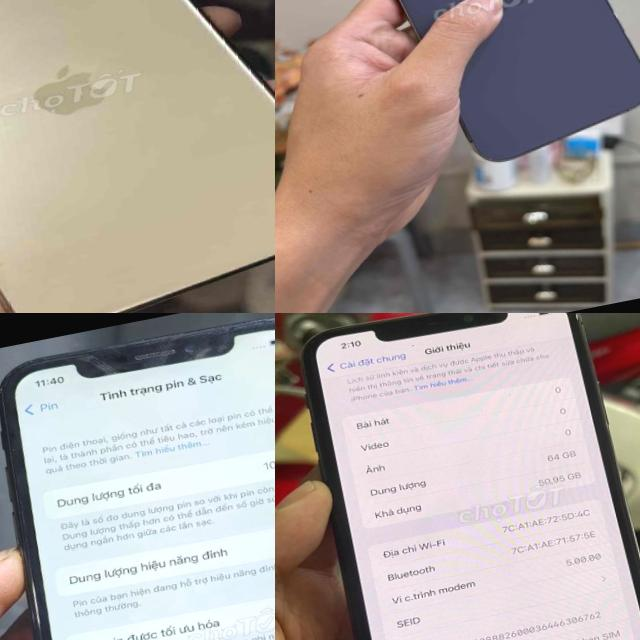gen_11: (288, 313, 640, 640), (0, 0, 275, 313)
gen_14: (336, 0, 640, 184)
gen_x_xs: (0, 313, 275, 640)
scratch: (113, 313, 275, 356), (12, 342, 74, 378), (0, 371, 26, 403), (3, 437, 26, 459)
